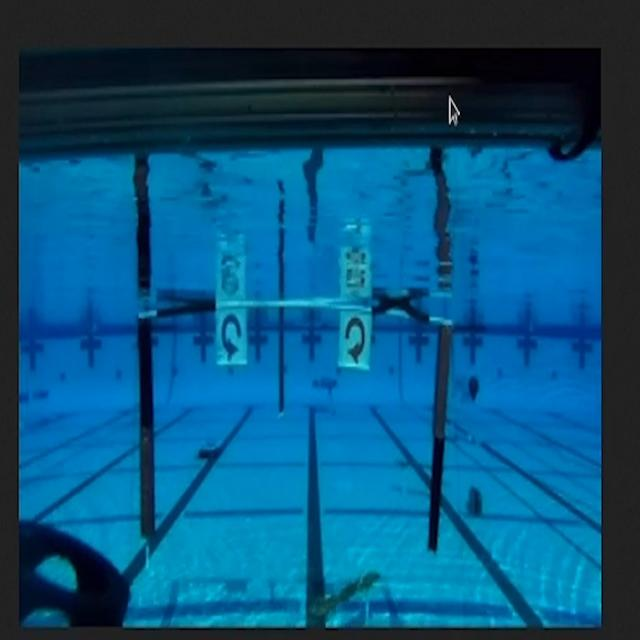Gate: (132, 296, 454, 566)
